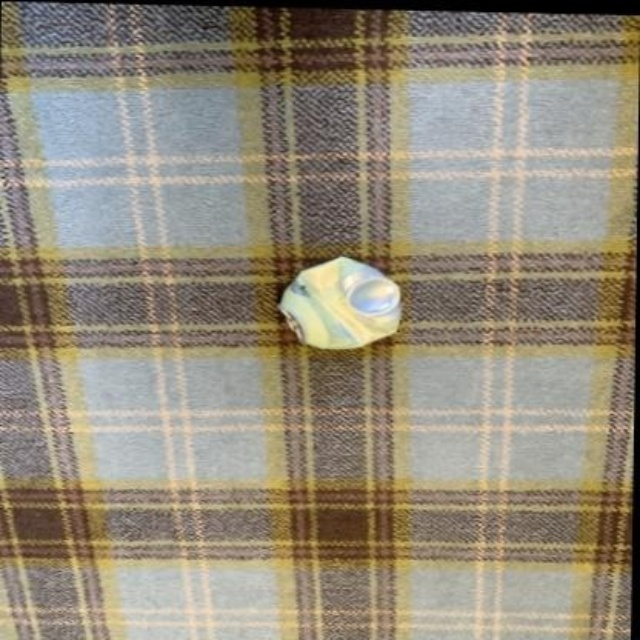trash: (278, 257, 400, 348)
